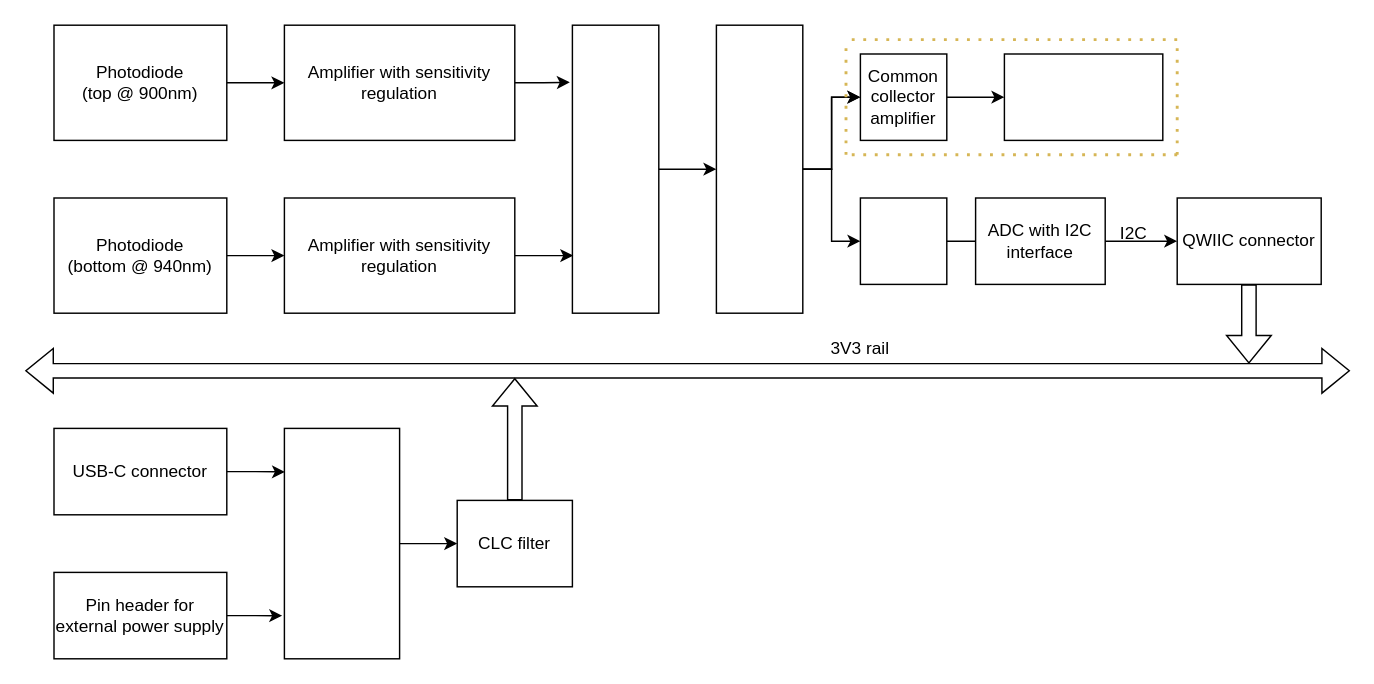
The diagram is 1374 pixels wide and 684 high, and some of its shapes have lost their labels. Each missing label, with the box of its shape:
Analog buffer: (859, 197, 947, 284)
BNC connector for oscilloscope: (1003, 53, 1163, 140)
LDO (5V->3V3): (283, 427, 400, 659)
RC filter: (715, 24, 803, 313)
Selector: (571, 24, 659, 313)
